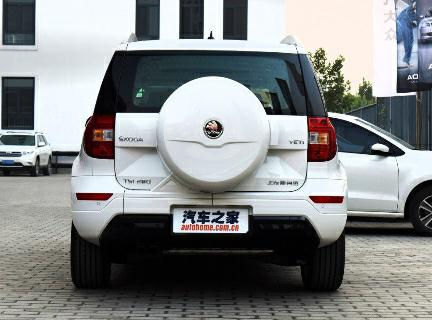斯柯达-Yeti: (65, 32, 354, 300)
